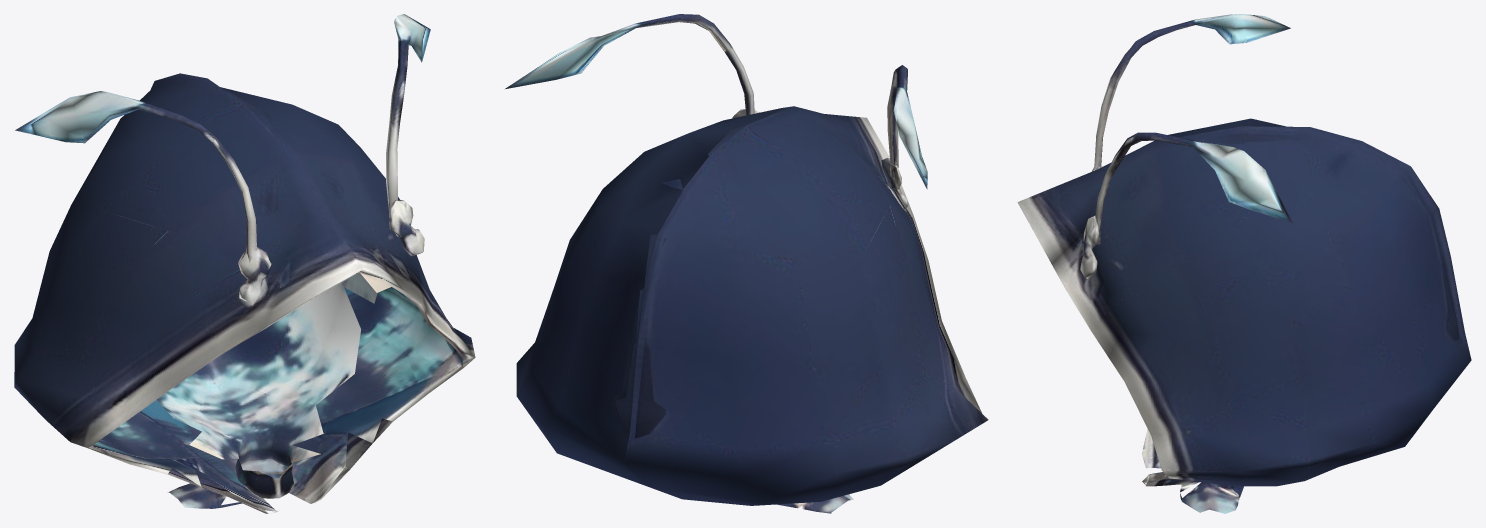
The model's file is mirrorwing_hood.glb.
3 views of the same model, side by side, from view 1: azimuth 30°, elevation 25°; view 2: azimuth 150°, elevation 25°; view 3: azimuth 270°, elevation 25° (orthographic). The views are drawn at different scales.
Parts seen in each view (by area): view 1: Mesh_0; view 2: Mesh_0; view 3: Mesh_0.
Part boxes in pixels (x1,y1,x2,y2): Mesh_0: (14,14,475,513); Mesh_0: (505,14,988,513); Mesh_0: (1017,14,1471,513).
Bounding box in the file's own units: 0.4287 × 0.4067 × 0.4227.
Materials: 1 (1 with a texture image).
